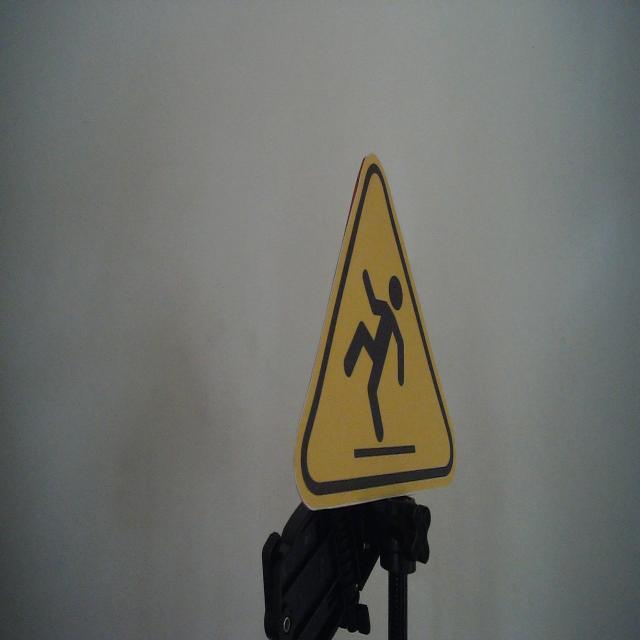slippery_sign: (292, 148, 458, 514)
